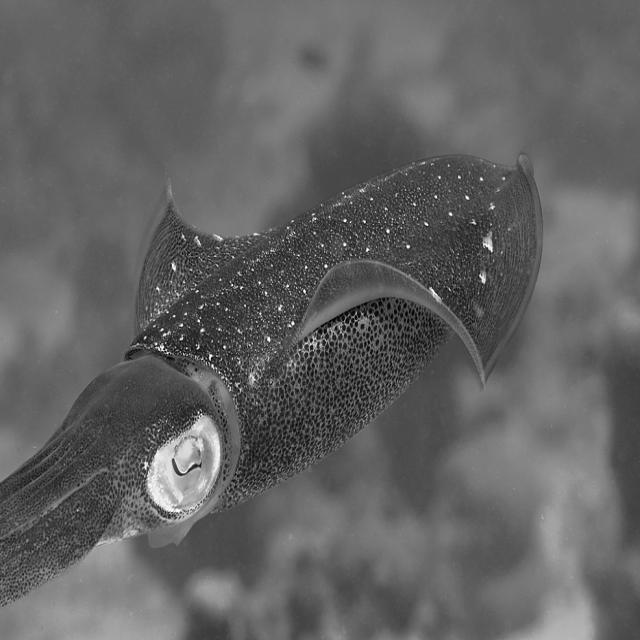SQUID: (0, 129, 569, 611)
